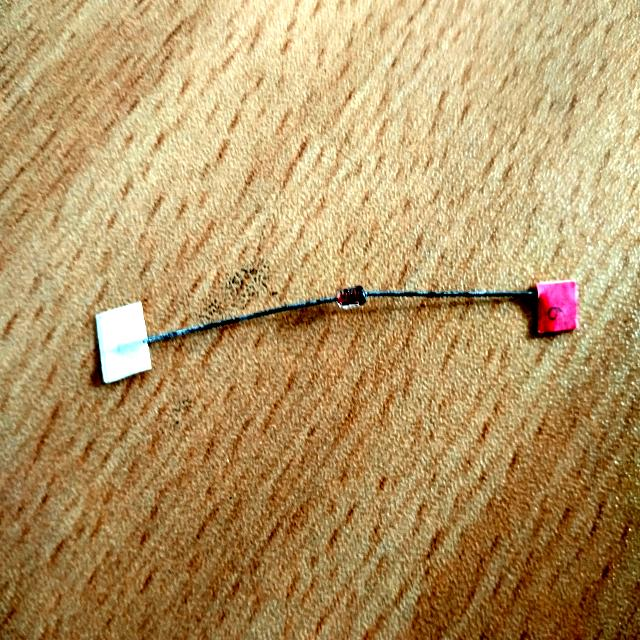Zener-Diode: (154, 259, 535, 370)
